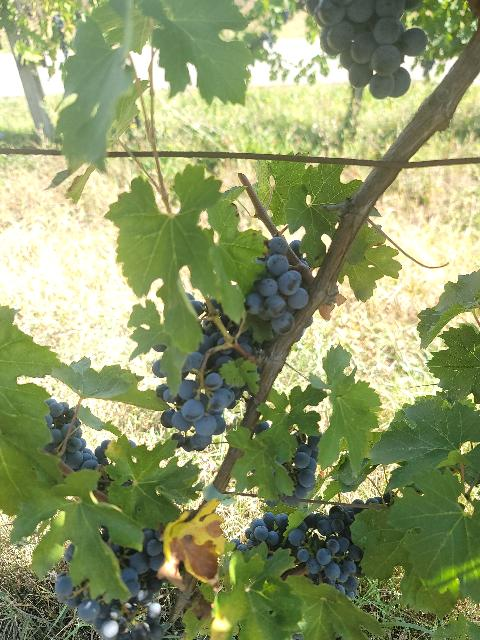grapes: (152, 318, 250, 451), (289, 505, 364, 599), (245, 236, 309, 335), (231, 511, 289, 551)
